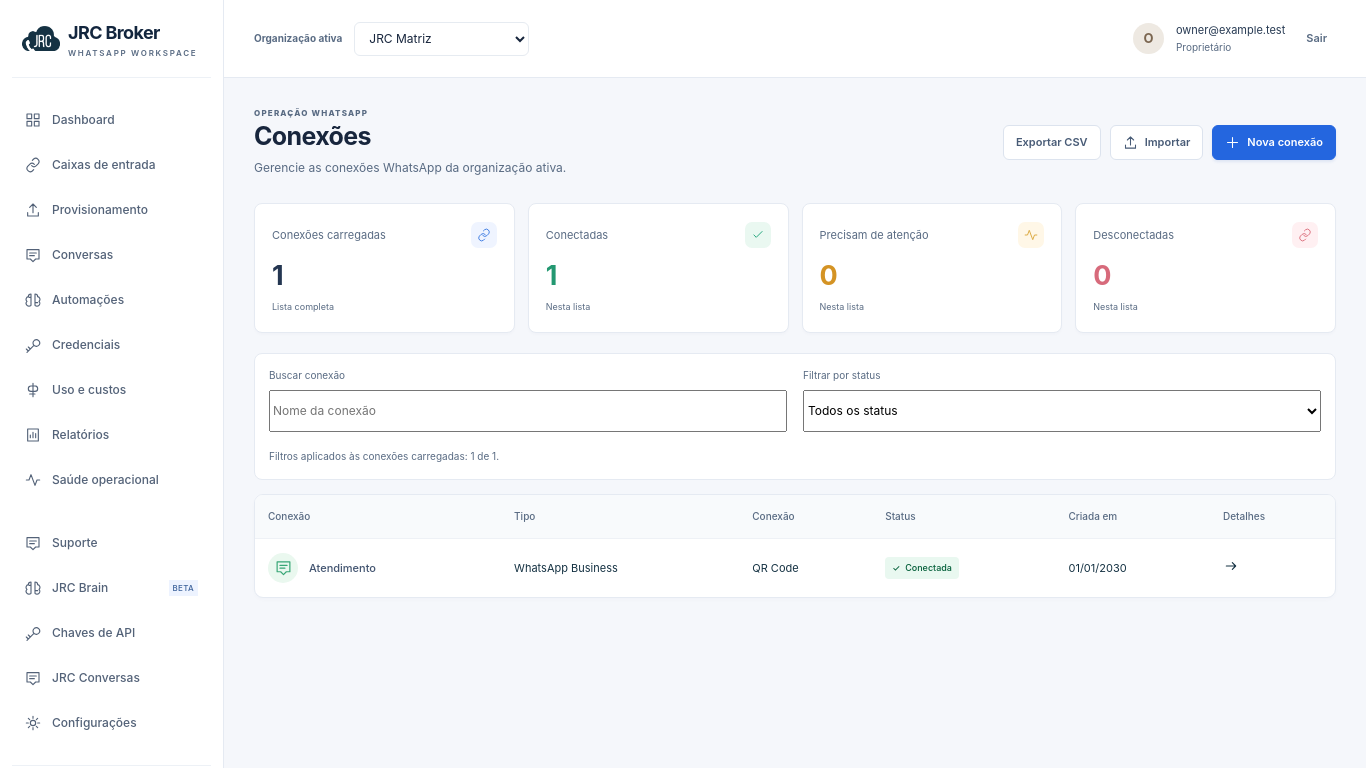
ConnectionsPage › limpa a lista anterior e recarrega conexões ao trocar de tenant
Check: the link "Atendimento" is shown, box [268,553,376,583]
Select "JRC Filial" in the dropdown labelled "Organização ativa": (442, 38) [354,22,529,56]
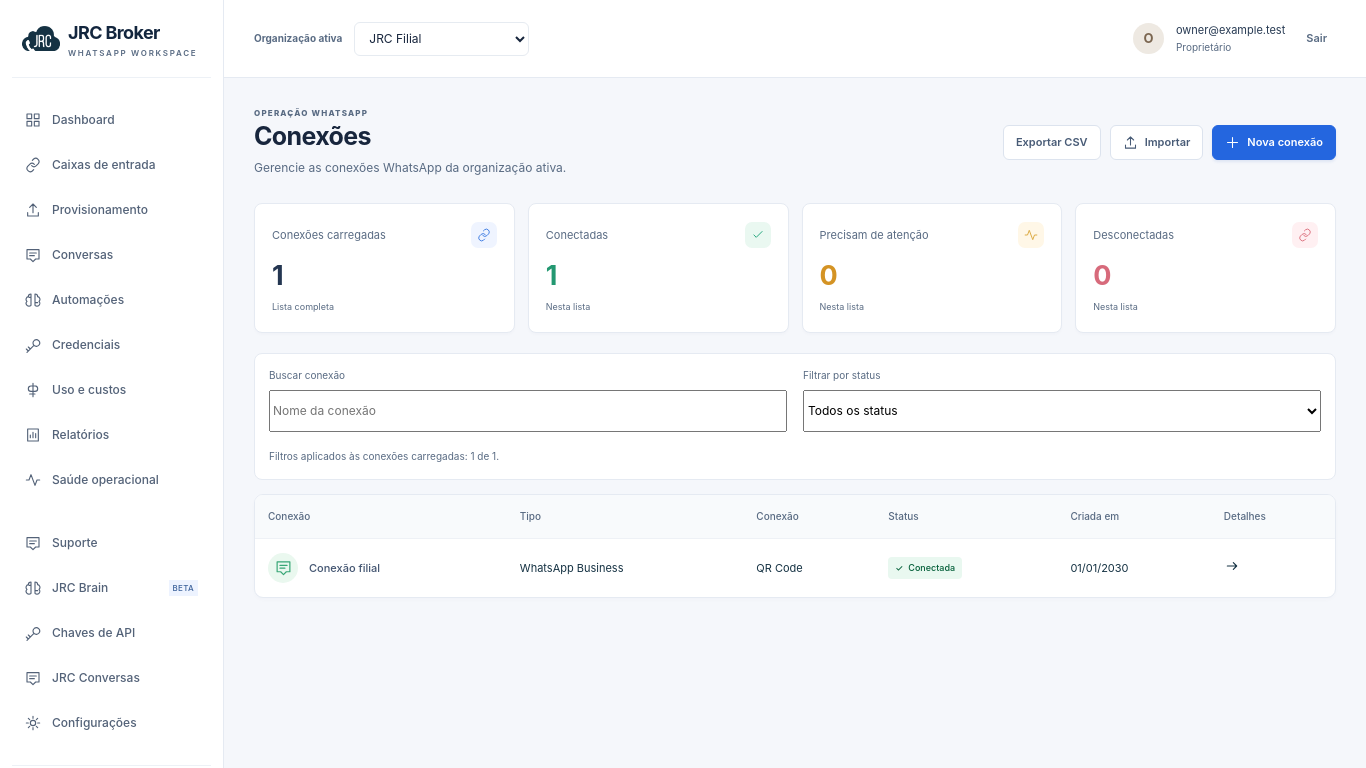
Check: the link "Conexão filial" is shown, box [268,553,380,583]
Check: the link "Atendimento" is gone
